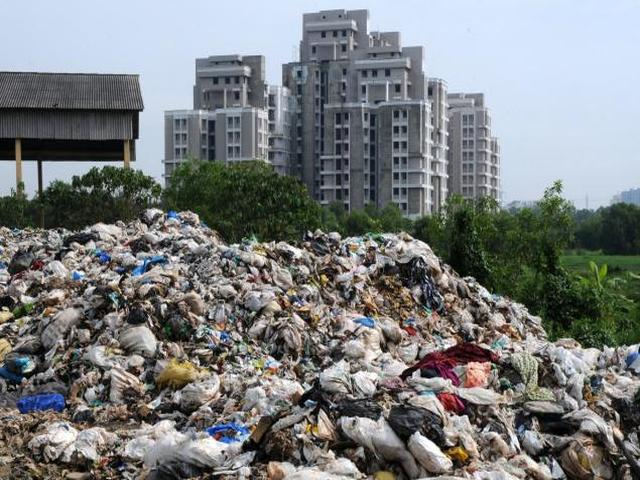garbage: (18, 251, 424, 476), (436, 342, 637, 465)
